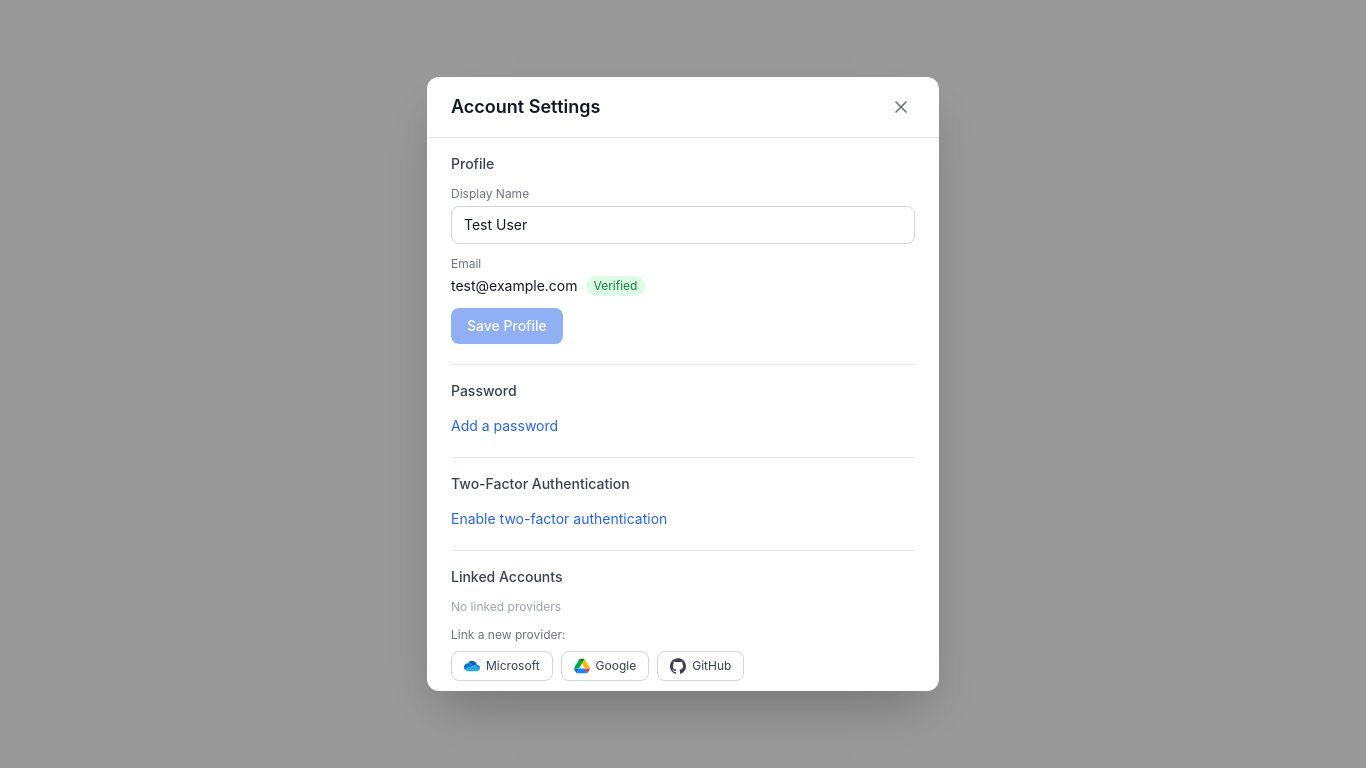
AccountModal › hides current password field when adding password
Click the button "Add a password": click(505, 426) [451,416,558,436]
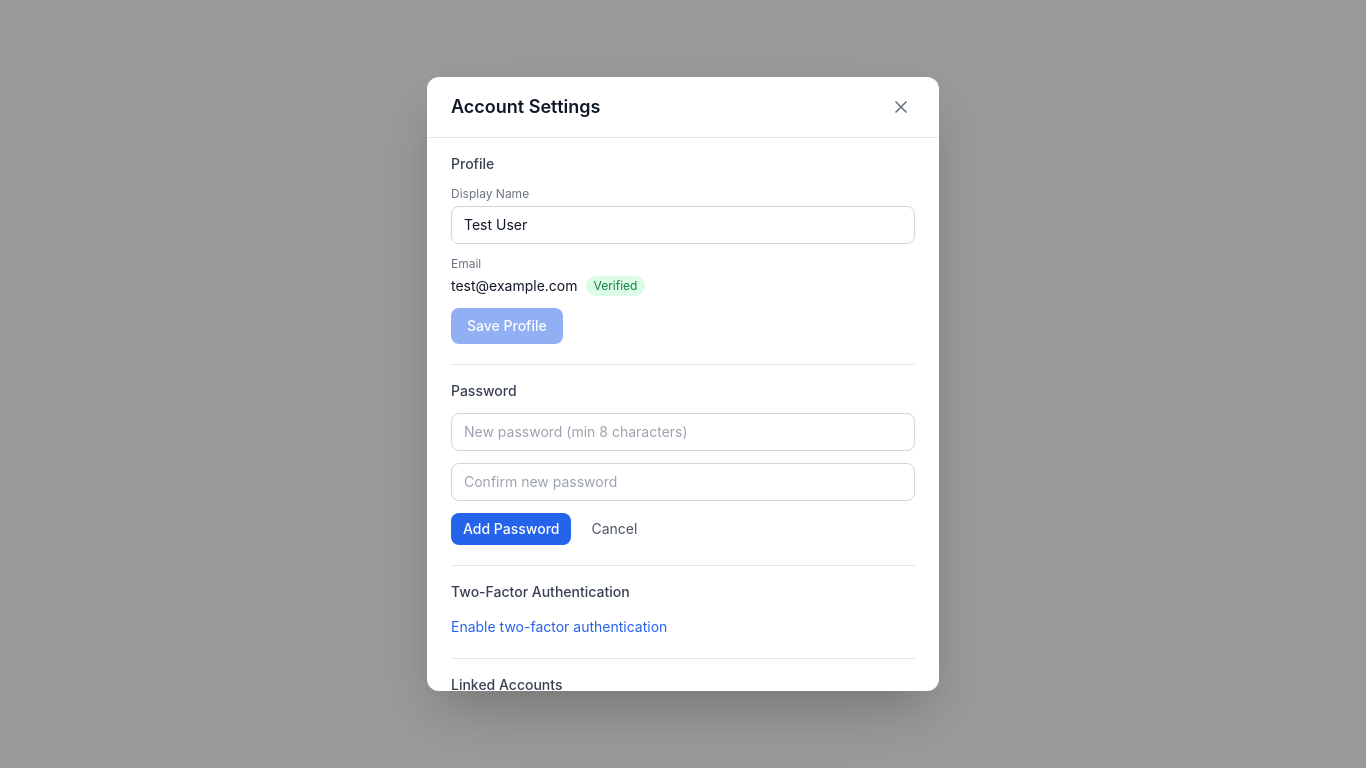
Check: the password field with placeholder "New password (min 8 characters)" is shown, box [451,413,915,451]
Check: the password field with placeholder "Confirm new password" is shown, box [451,463,915,501]
